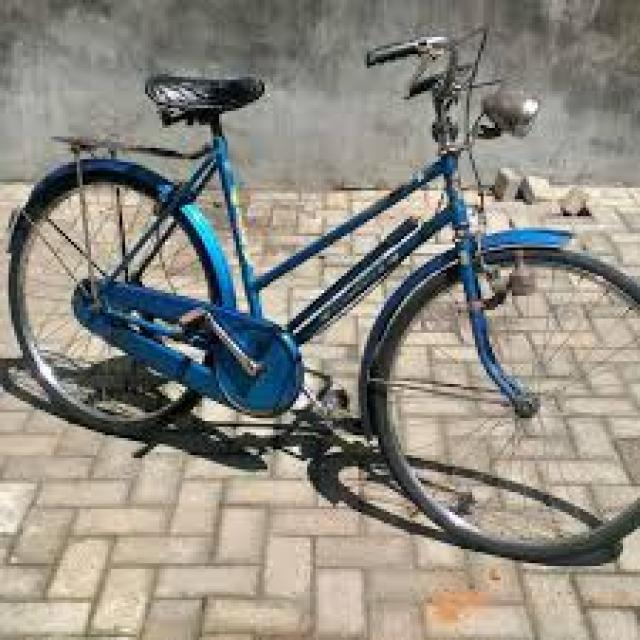bicycle: (10, 29, 640, 566)
